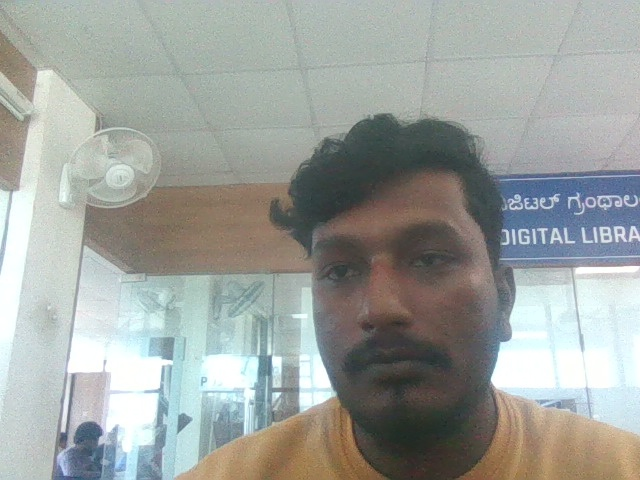real: (275, 87, 536, 457)
